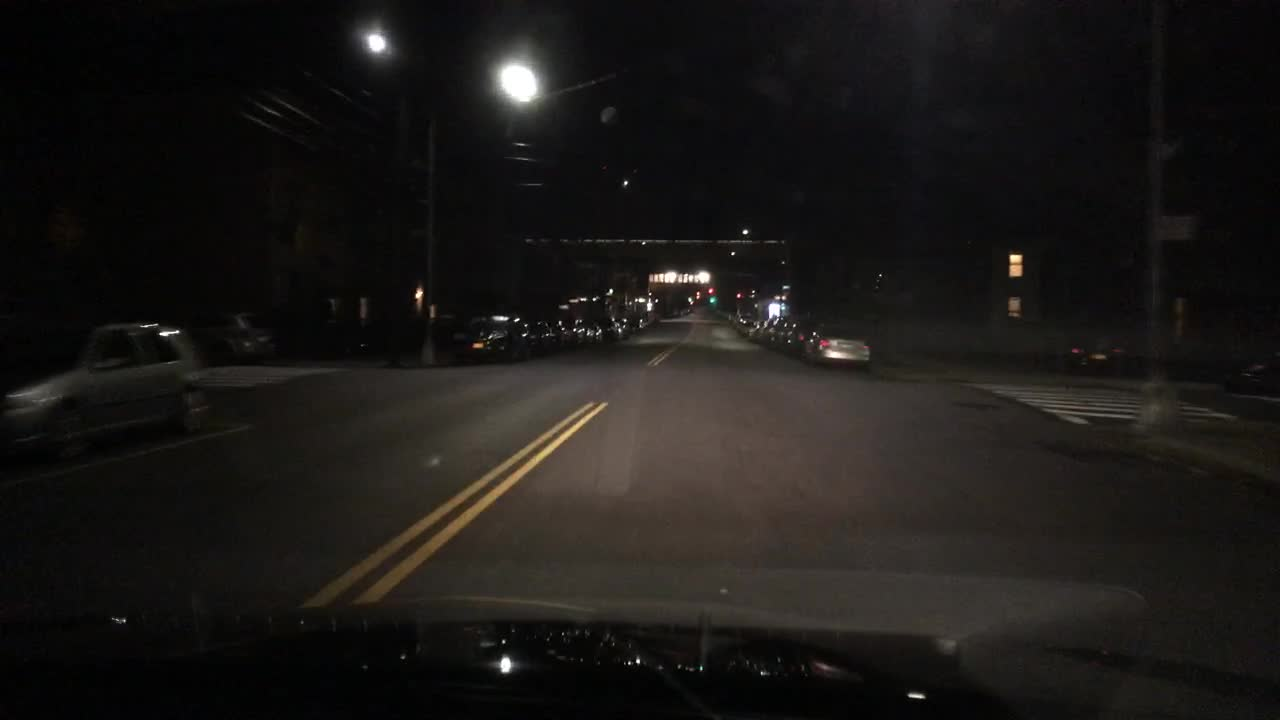car: (0, 324, 212, 461), (185, 308, 272, 363), (451, 311, 531, 365), (1070, 336, 1146, 377), (799, 326, 868, 368), (1224, 350, 1278, 395), (782, 319, 815, 353), (766, 317, 796, 348), (634, 293, 664, 324), (627, 296, 651, 330), (559, 311, 583, 344), (547, 317, 571, 348), (529, 317, 550, 351), (613, 314, 636, 338), (595, 316, 619, 339), (755, 317, 775, 344), (579, 317, 603, 338), (598, 293, 622, 314), (727, 305, 752, 323), (674, 293, 695, 314), (733, 314, 755, 332), (745, 319, 760, 336)
traffic light: (704, 296, 718, 305), (733, 290, 743, 302), (703, 284, 715, 293)
traffic sign: (1155, 217, 1196, 242), (1005, 254, 1020, 277), (1008, 293, 1020, 316), (767, 302, 781, 317)
